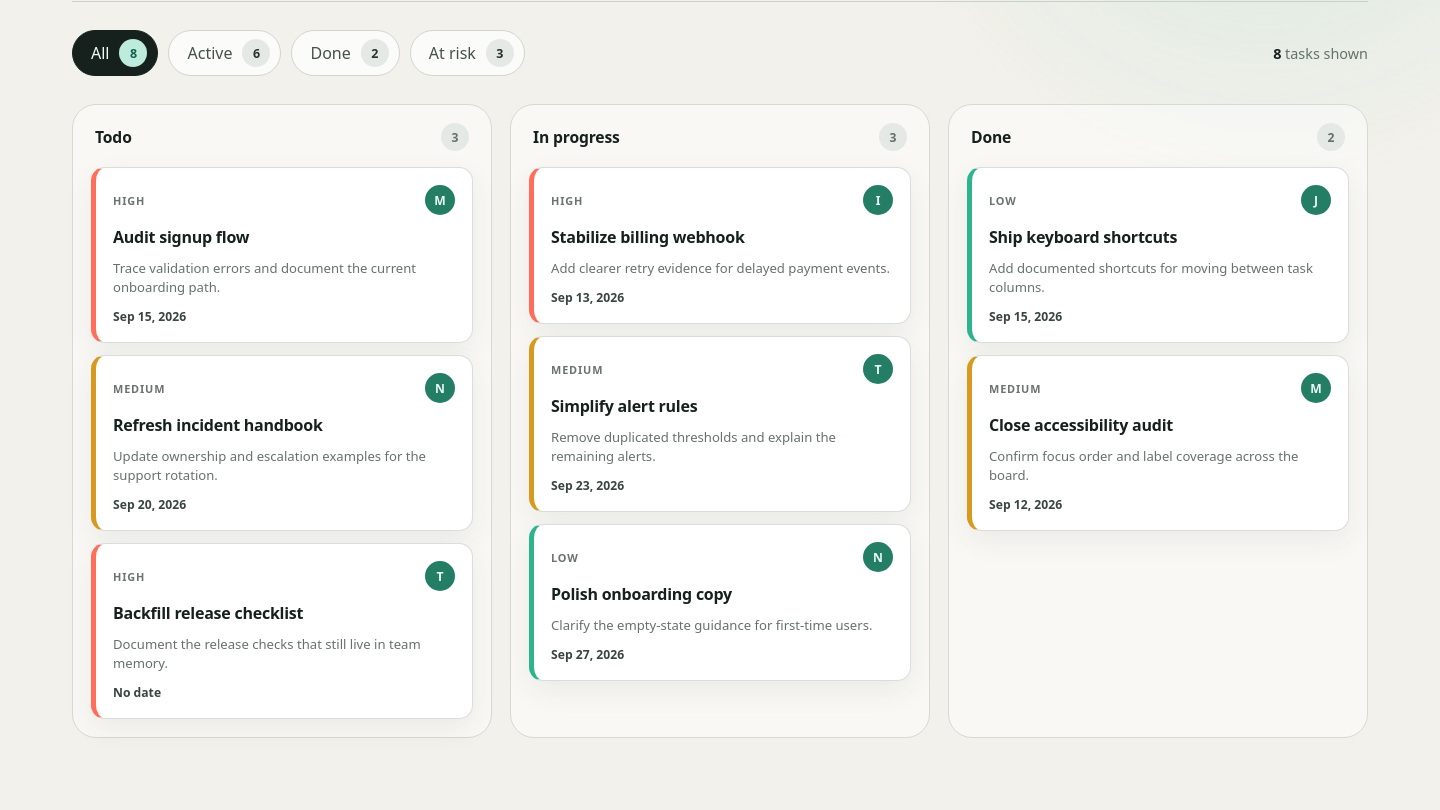
Scenario: SprintBoard starting experience › opens details for a task without a due date
(page scrolled)
Click the button with aria-label "Open Backfill release checklist" at (129, 576), box [96,544,472,718]
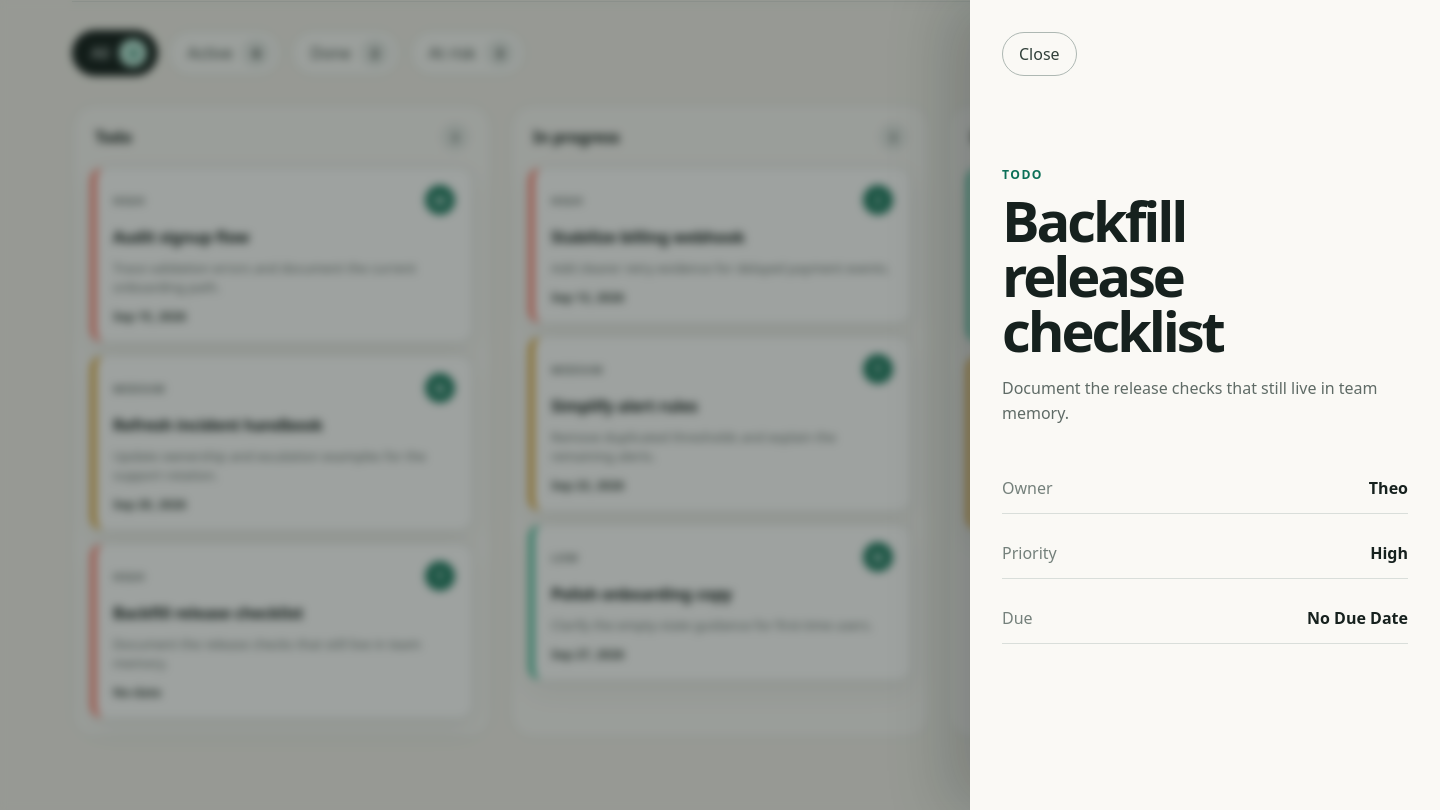
Now the heading "Backfill release checklist" is shown, box [1002,182,1223,368]
Now the text "No due date" is shown, box [1307,607,1408,629]
